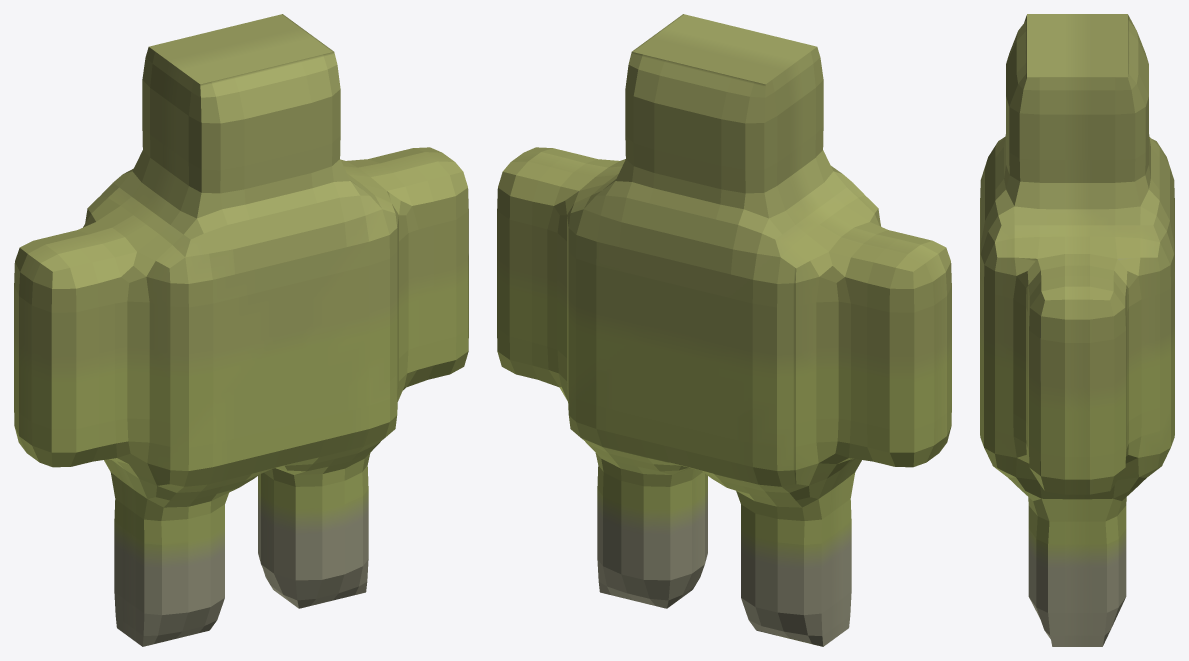
The model's file is guardian.glb.
3 views of the same model, side by side, from view 1: azimuth 30°, elevation 25°; view 2: azimuth 150°, elevation 25°; view 3: azimuth 270°, elevation 25° (orthographic). The views are drawn at different scales.
Parts seen in each view (by area): view 1: geometry_0; view 2: geometry_0; view 3: geometry_0.
Boxes of the visible parts, x1=… form: geometry_0: x1=14, y1=14, x2=468, y2=646; geometry_0: x1=497, y1=14, x2=951, y2=646; geometry_0: x1=980, y1=14, x2=1174, y2=646.
Size of the model in its own units: 0.8065 by 1 by 0.3226.
Materials: 1 (1 with a texture image).
